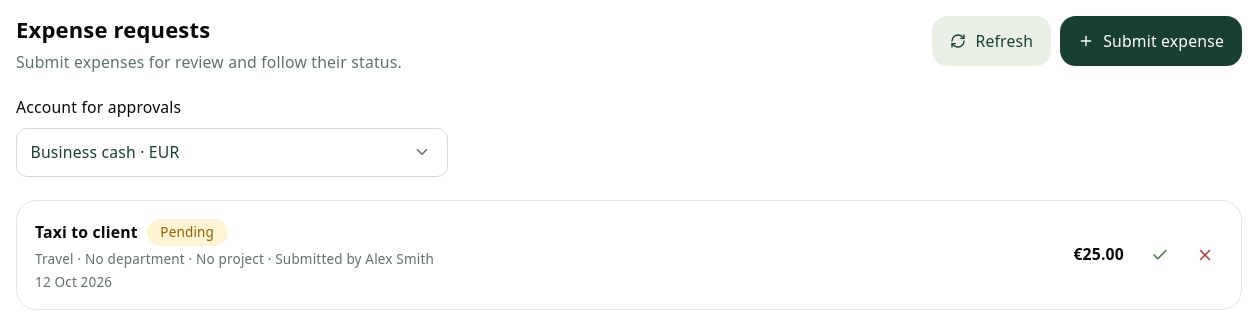
it: lets owners reject without an approval account or transaction refresh
Step 1. Click the button named "Reject Taxi to client" → (1205, 255), box [1187,237,1223,273]
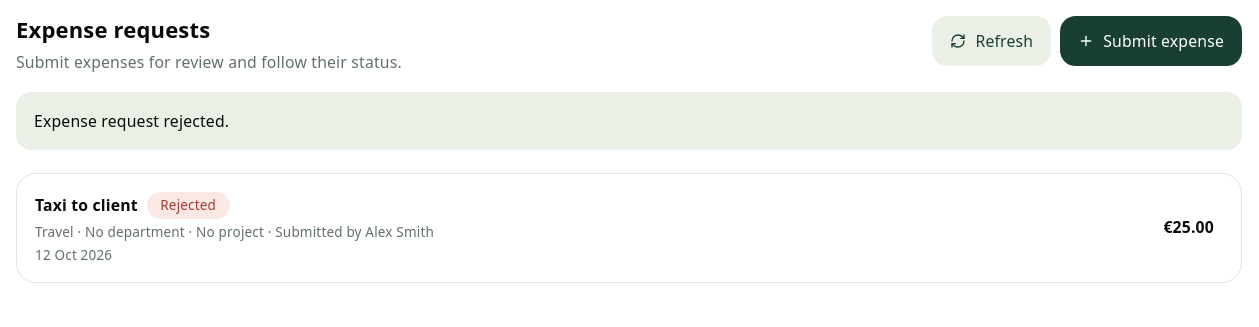
Expected: the text "rejected" is shown, [147,192,230,219]
